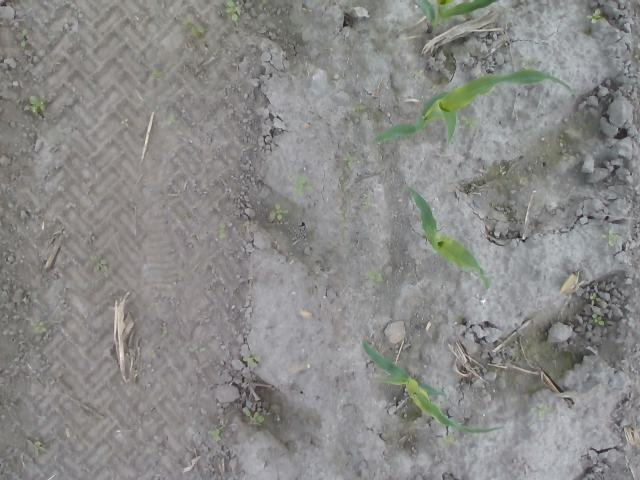Maize: (368, 68, 575, 146), (363, 338, 504, 434), (406, 186, 492, 290), (412, 0, 498, 37)
Weeds: (293, 174, 314, 198), (223, 0, 241, 23), (243, 350, 261, 370), (182, 17, 202, 35), (268, 202, 288, 220), (28, 95, 44, 114), (600, 231, 619, 247), (94, 256, 110, 272), (586, 8, 600, 24), (247, 412, 264, 425), (367, 270, 384, 283), (591, 312, 605, 326), (462, 115, 476, 128), (532, 403, 545, 416), (588, 292, 600, 306), (211, 430, 224, 442), (32, 321, 46, 332), (443, 434, 455, 446), (218, 223, 226, 241), (344, 152, 354, 166), (192, 344, 206, 352), (167, 112, 174, 125)
